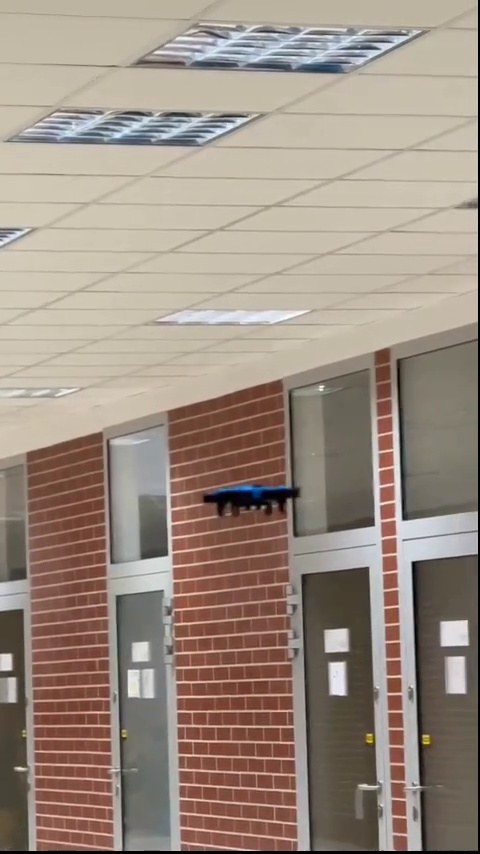drone: (204, 480, 306, 525)
